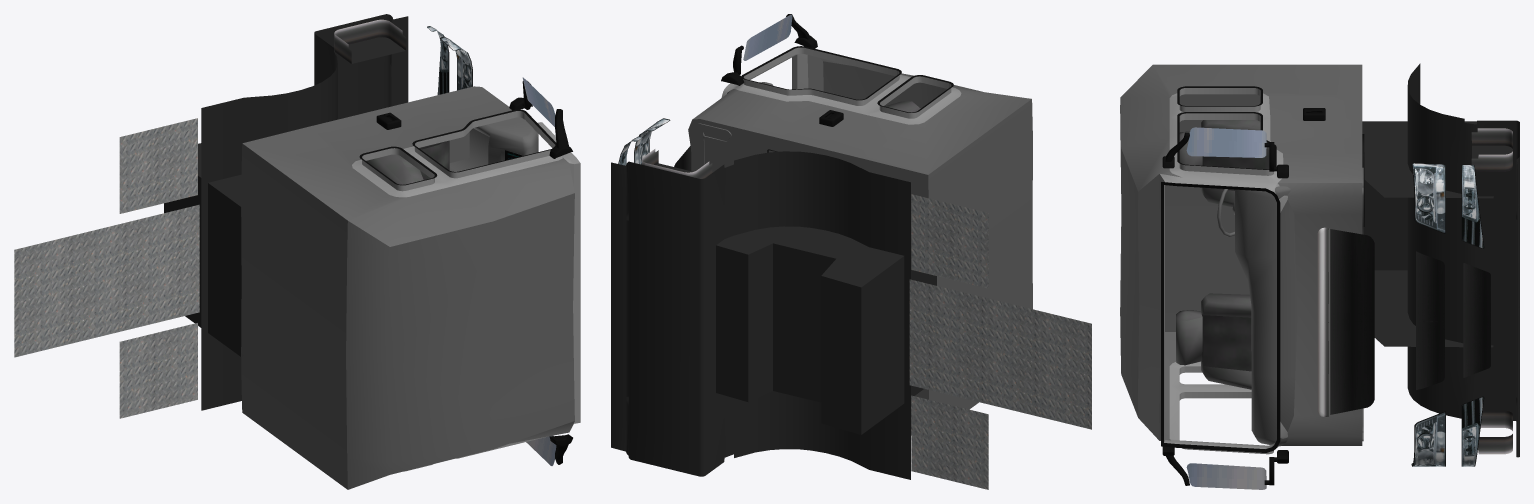
File: details.obj
3 renders of one model, left to right at view 1: azimuth 30°, elevation 25°; view 2: azimuth 150°, elevation 25°; view 3: azimuth 270°, elevation 25°, orthographic.
Visible parts, largest first — view 1: interior, objmap_glossy, underbody01, objunderbody, details, Box03, Box05, trim, objseat_dark, Object04; view 2: underbody01, interior, objunderbody, objmap_glossy, details, trim, Object04, Box05; view 3: interior, details, underbody01, Box03, objunderbody, objseat_dark, trim, Object04, objseat_light, Box05.
Boxes of the visible parts, x1,y1,x2,y2 form: interior: (241, 86, 580, 489); objmap_glossy: (14, 118, 199, 418); underbody01: (201, 14, 408, 410); objunderbody: (164, 143, 244, 356); details: (334, 19, 472, 94); Box03: (449, 117, 538, 171); Box05: (509, 81, 572, 464); trim: (359, 26, 556, 185); objseat_dark: (366, 141, 445, 184); Object04: (522, 77, 556, 465); underbody01: (611, 151, 910, 479); interior: (688, 47, 1032, 435); objunderbody: (716, 226, 936, 434); objmap_glossy: (909, 194, 1091, 489); details: (619, 118, 712, 178); trim: (618, 46, 953, 163); Object04: (743, 14, 792, 60); Box05: (721, 14, 817, 85); interior: (1120, 64, 1362, 454); details: (1317, 128, 1512, 466); underbody01: (1407, 63, 1519, 457); Box03: (1235, 167, 1363, 446); objunderbody: (1362, 121, 1493, 347); objseat_dark: (1176, 120, 1260, 389); trim: (1161, 86, 1484, 466); Object04: (1186, 127, 1266, 489); objseat_light: (1201, 148, 1269, 371); Box05: (1162, 132, 1288, 485).
Bounding box in the file's own units: 3.83 × 2.92 × 2.94.
Materials: 12 (5 with a texture image).
